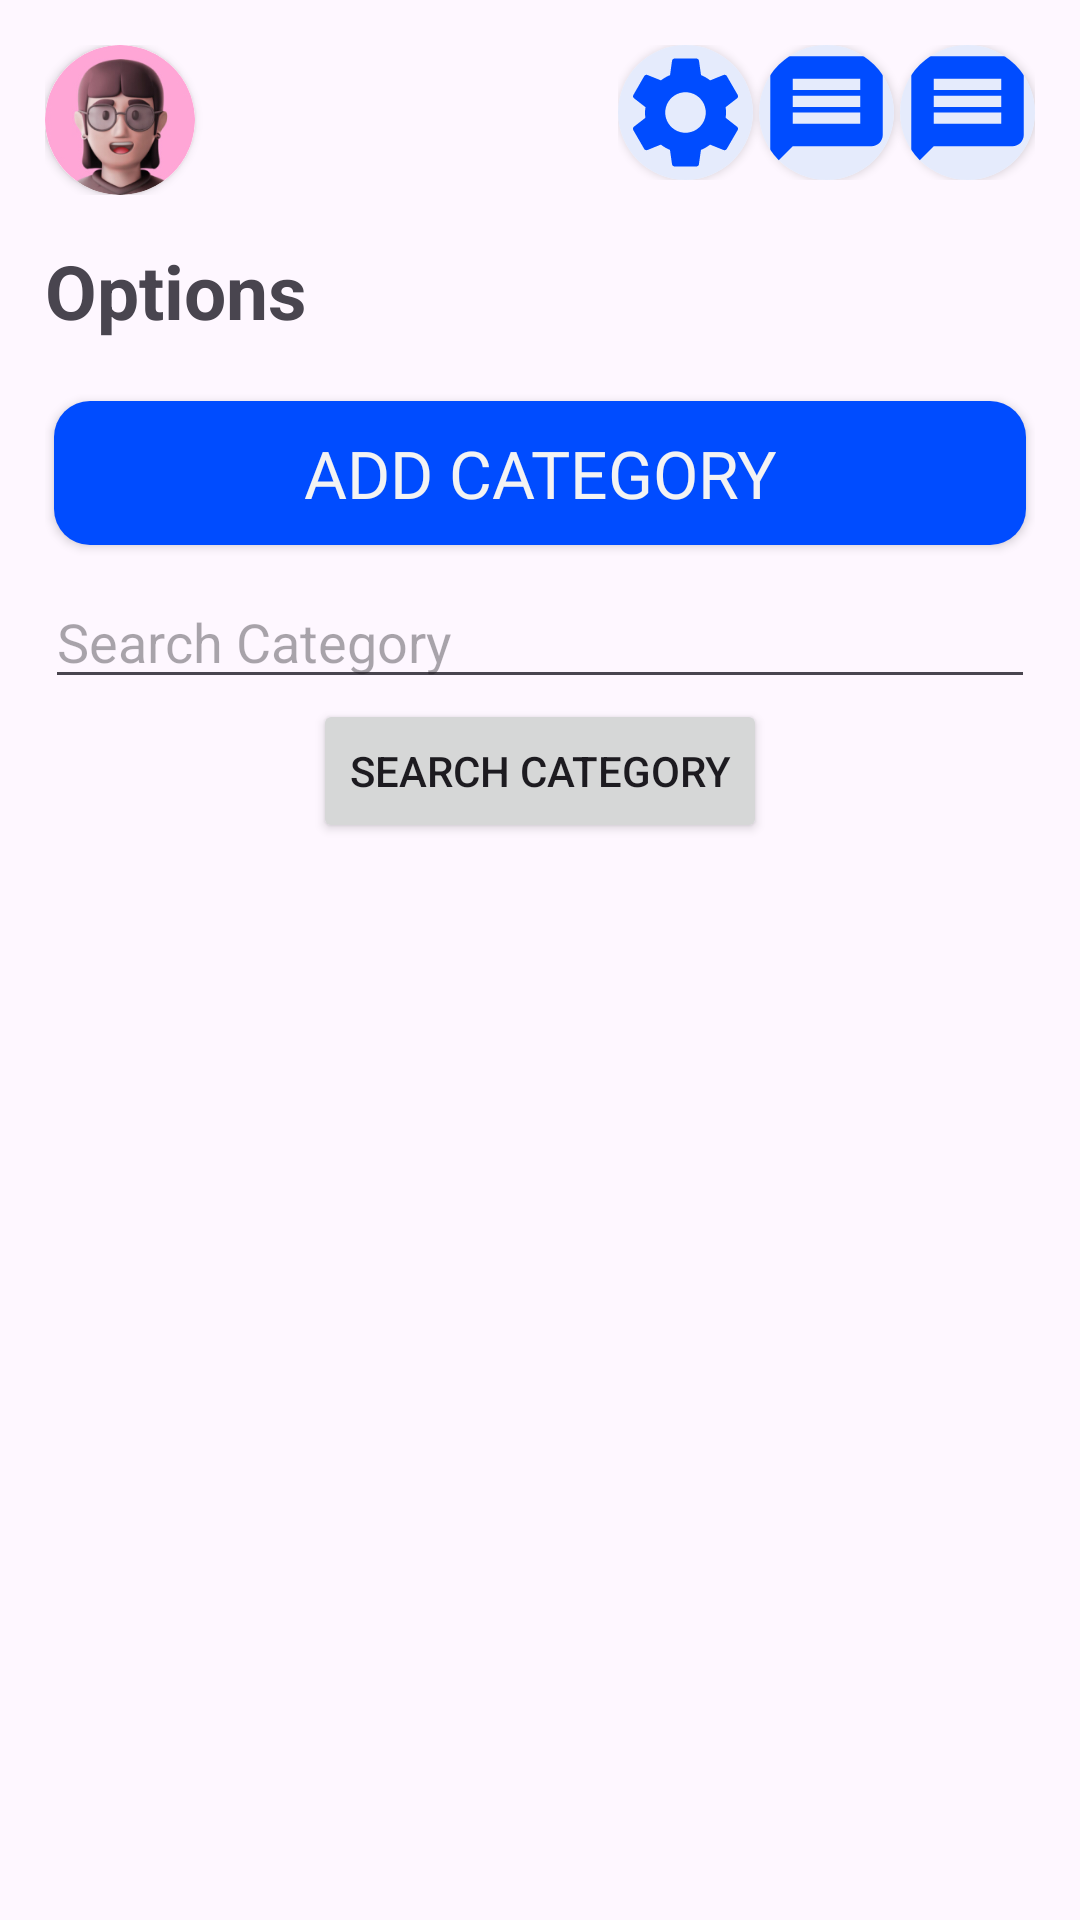

Named icons in this screenshot (1080 × 1920) and their bounding boxes, (x1, y1, x2, y2):
message: (759, 45, 894, 180), (900, 45, 1035, 180)
settings: (618, 45, 753, 180)
user: (45, 45, 195, 195)
